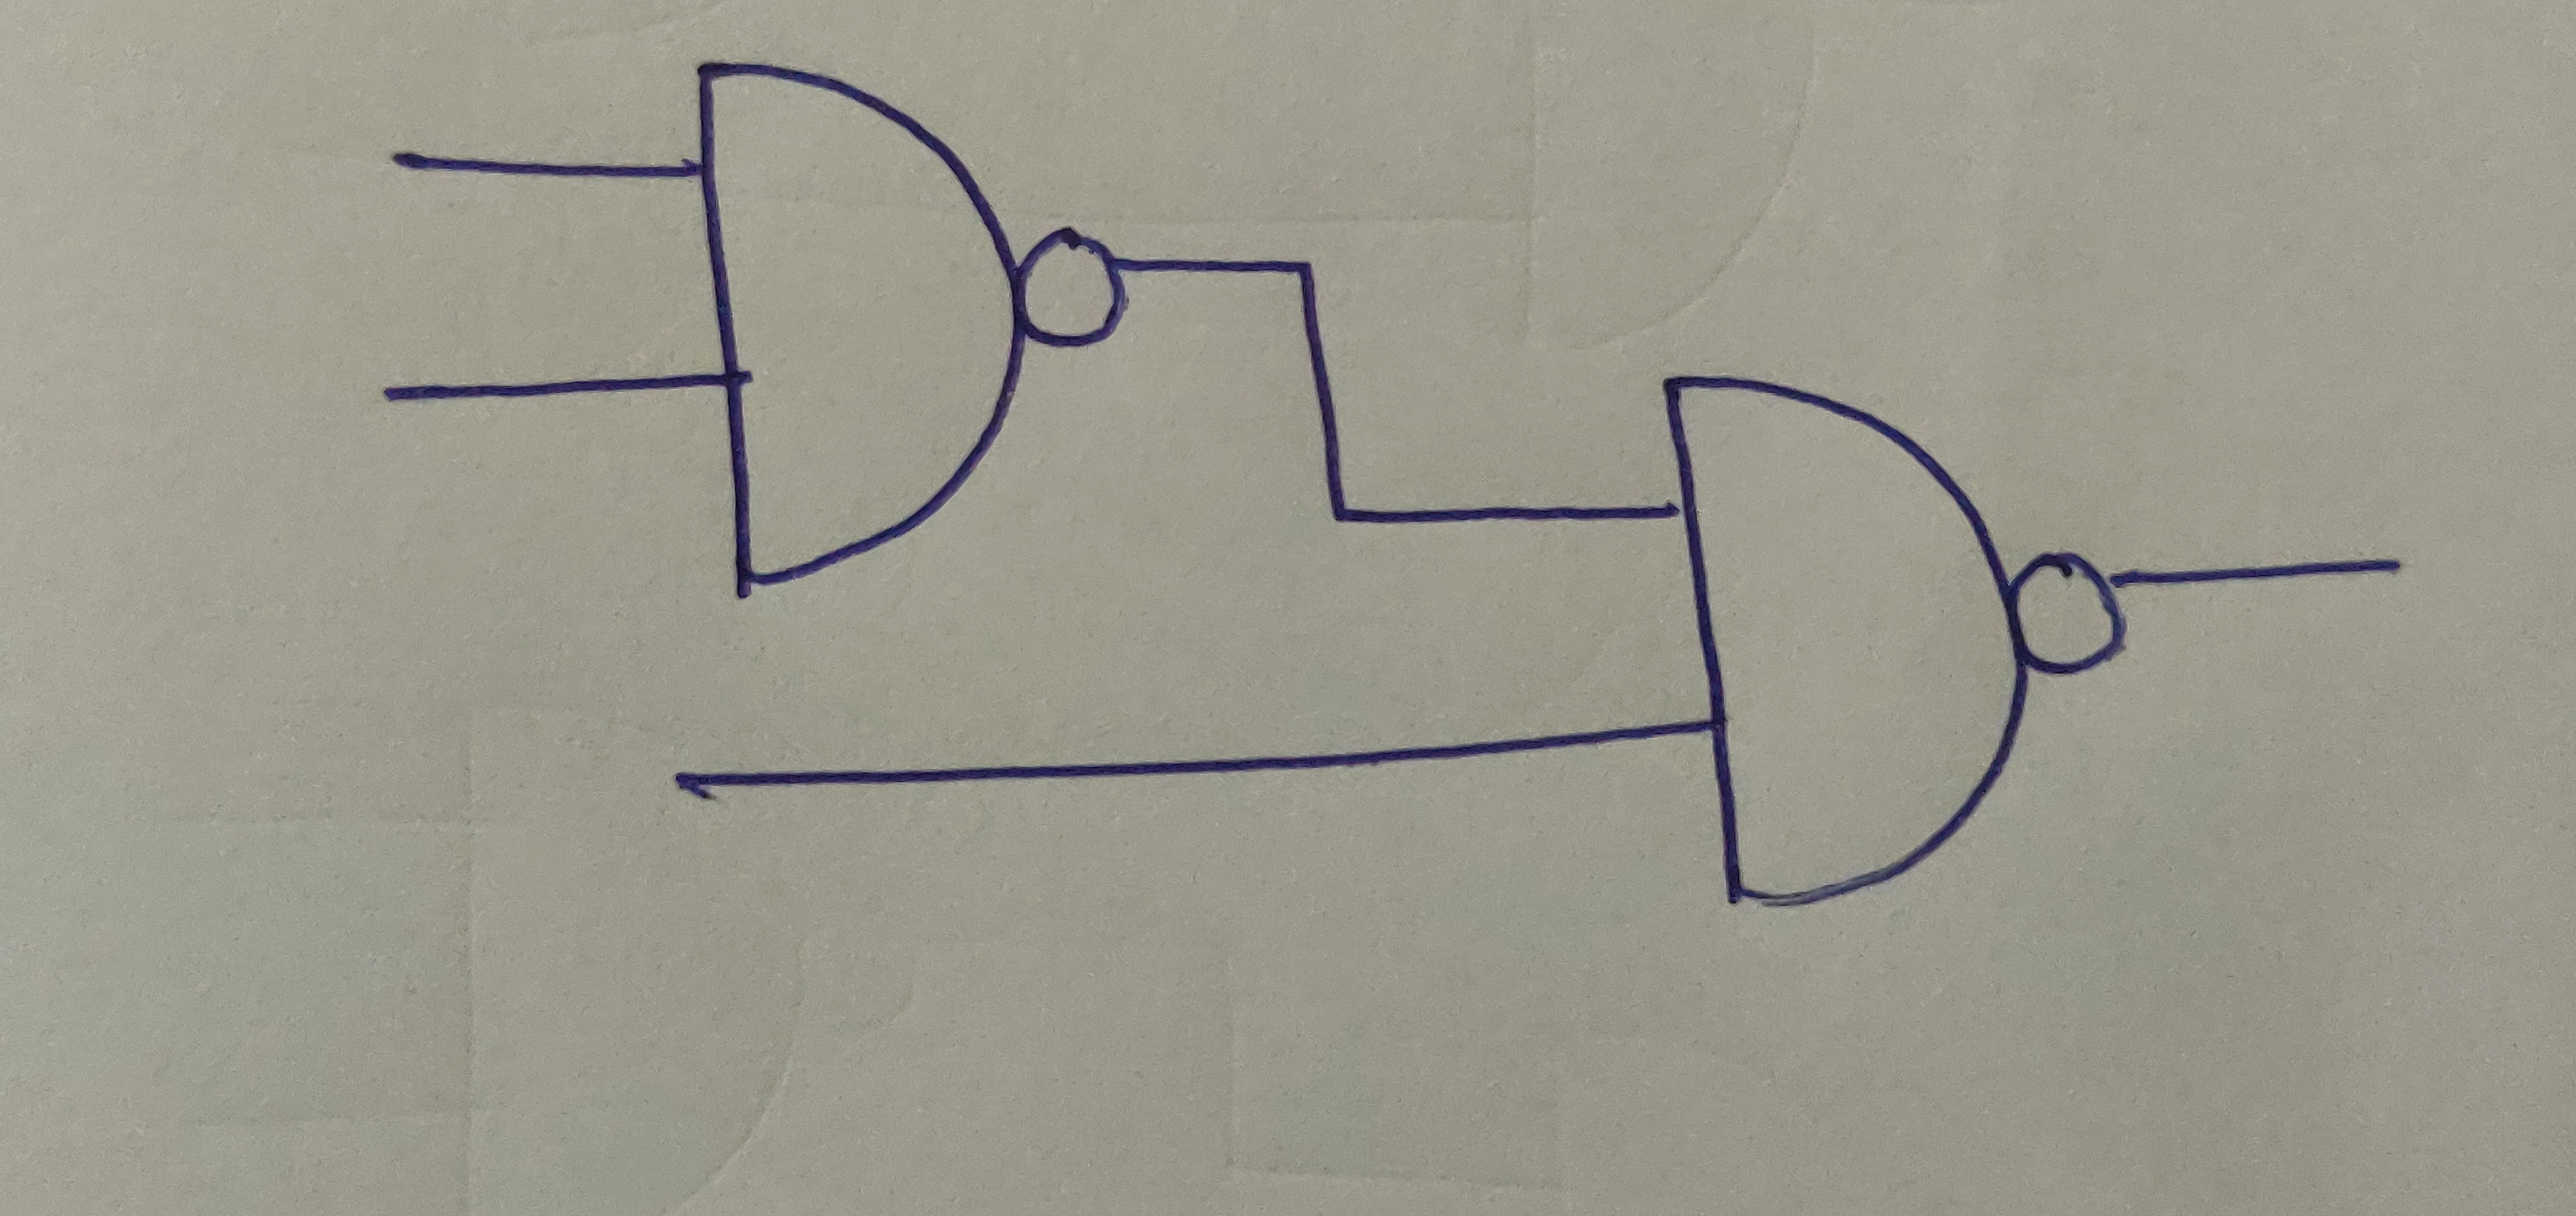and: (1666, 376, 2029, 902), (698, 58, 1019, 590)
not: (2016, 550, 2127, 674), (1022, 227, 1127, 348)
